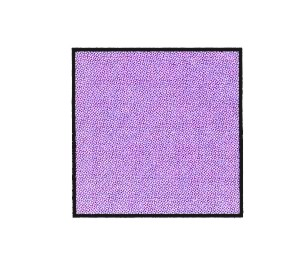cuadrado: (72, 47, 243, 218)
